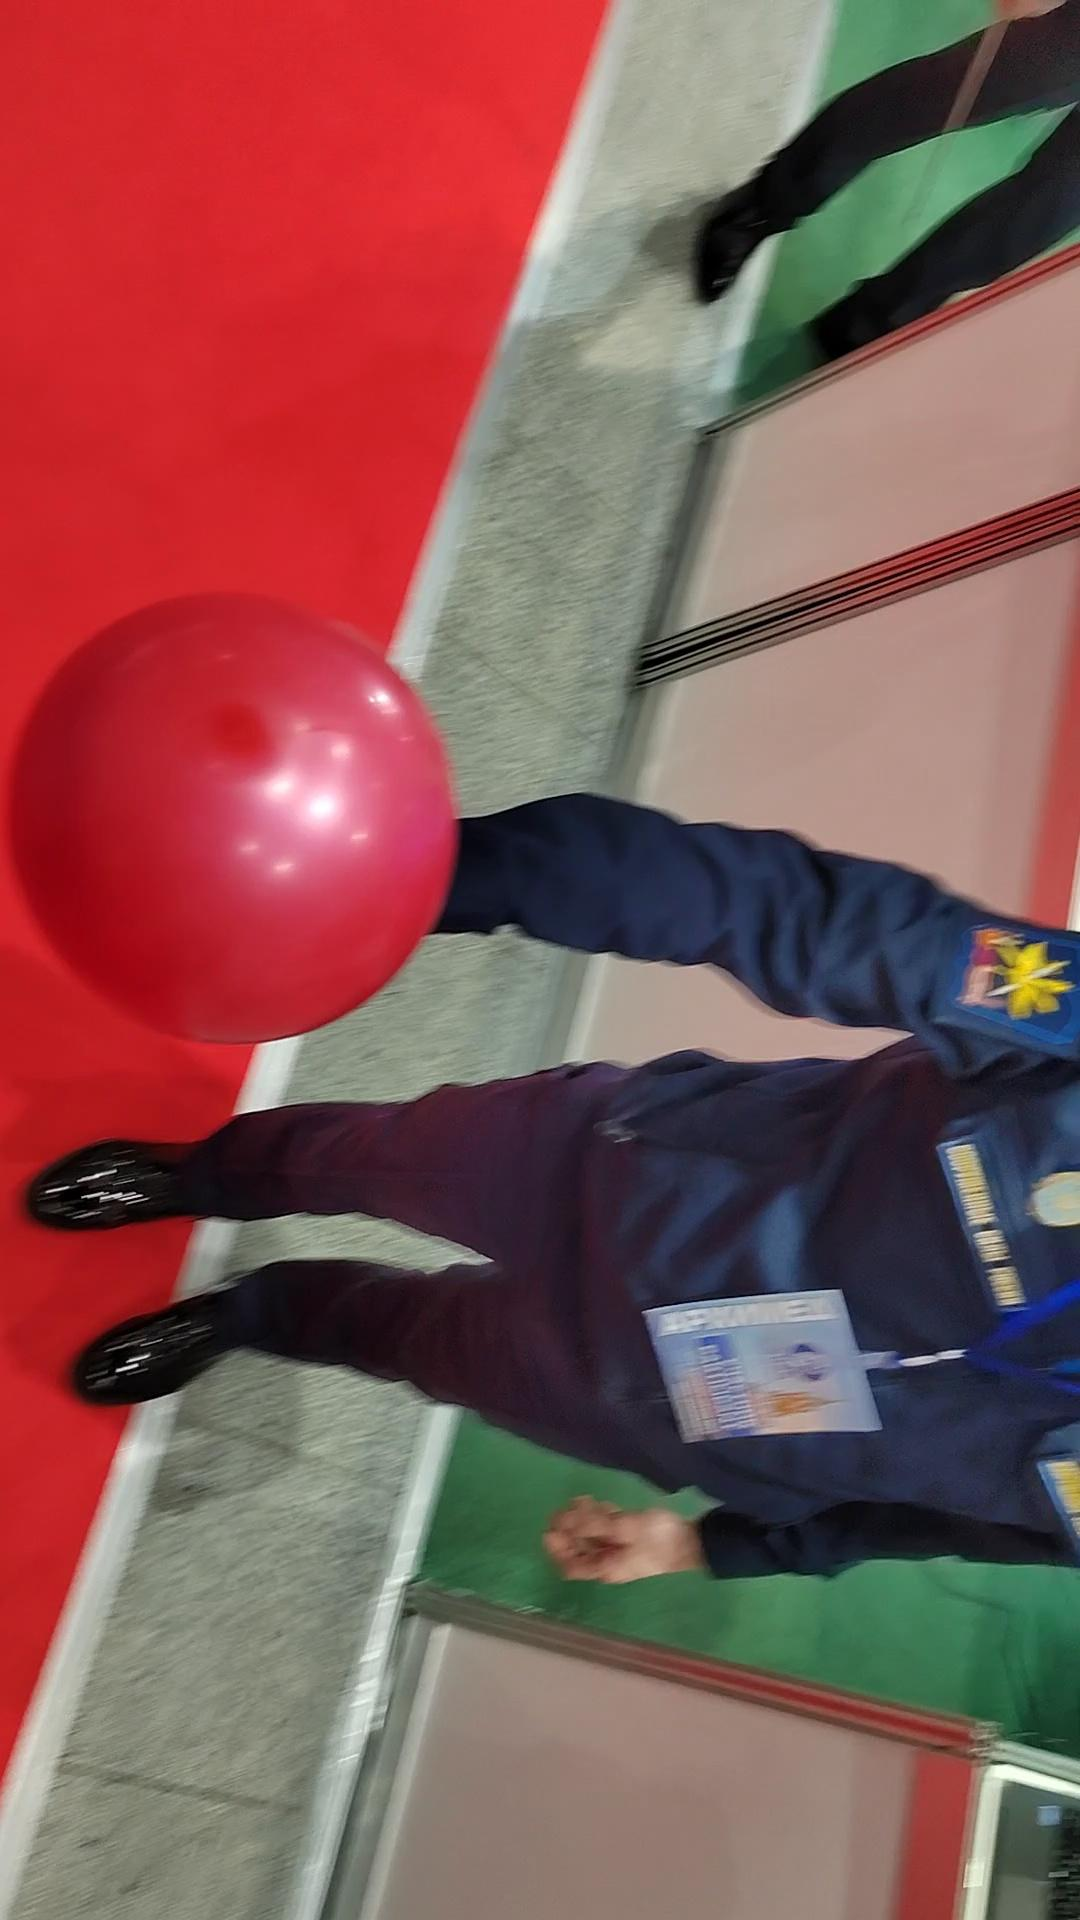red: (4, 571, 467, 1038)
